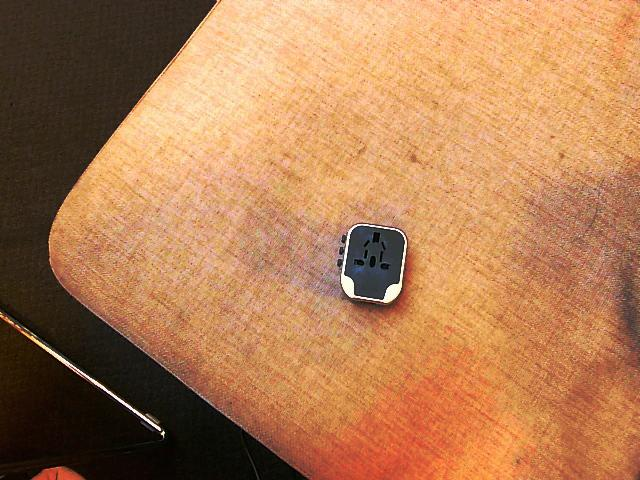adapter: (337, 223, 408, 306)
